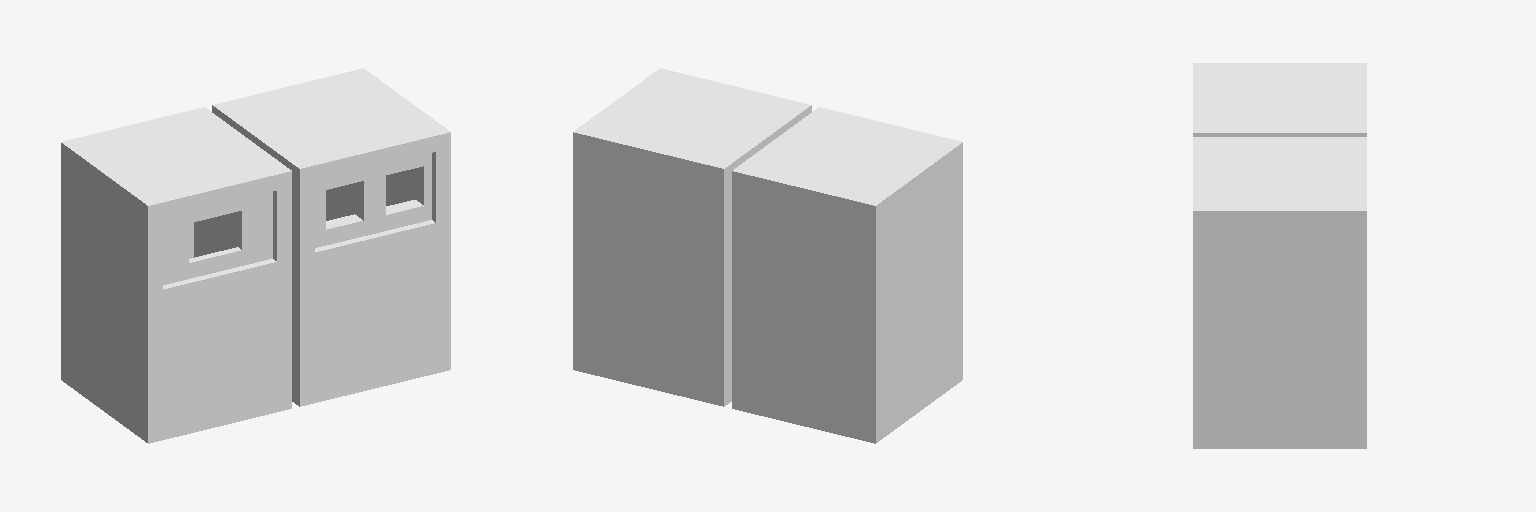
Rendered from Newbin.obj.
3 views of the same model, side by side, from view 1: azimuth 30°, elevation 25°; view 2: azimuth 150°, elevation 25°; view 3: azimuth 270°, elevation 25° (orthographic).
Parts seen in each view (by area): view 1: object 1; view 2: object 1; view 3: object 1.
Part boxes in pixels (bbox=[...]): object 1: bbox=[61, 68, 450, 443]; object 1: bbox=[573, 68, 962, 443]; object 1: bbox=[1193, 63, 1366, 448].
Bounding box in the file's own units: 4 × 3 × 2.